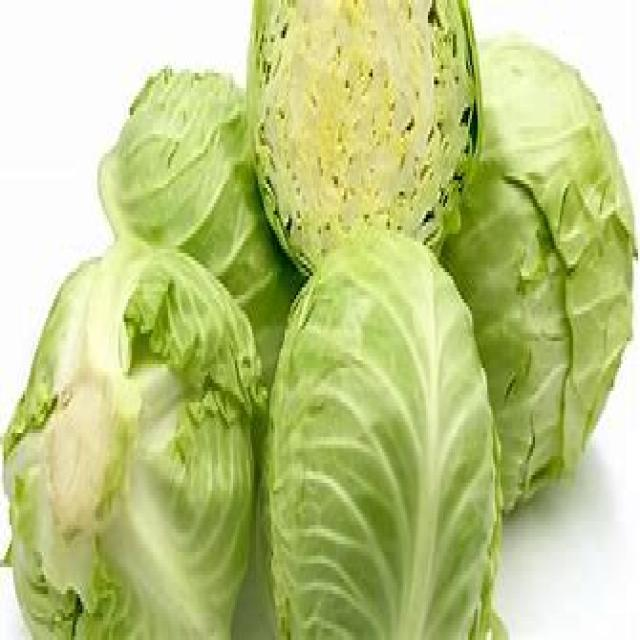cabbage: (0, 236, 265, 639), (270, 234, 502, 640), (247, 3, 478, 257)
